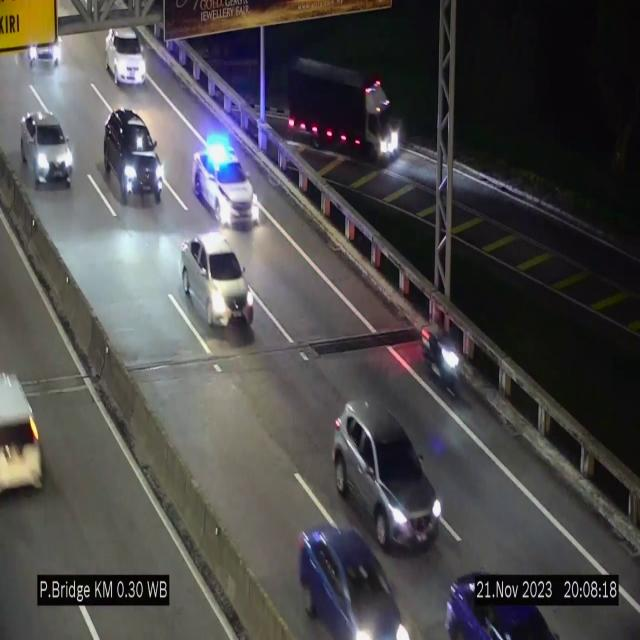Car: (333, 395, 442, 550), (295, 517, 413, 640), (437, 553, 539, 640), (0, 362, 56, 509), (183, 232, 255, 329), (192, 133, 258, 227), (104, 108, 163, 205), (21, 112, 73, 188), (106, 28, 146, 86)
Motorcycle: (429, 322, 460, 402)
Truck: (280, 45, 403, 166)
